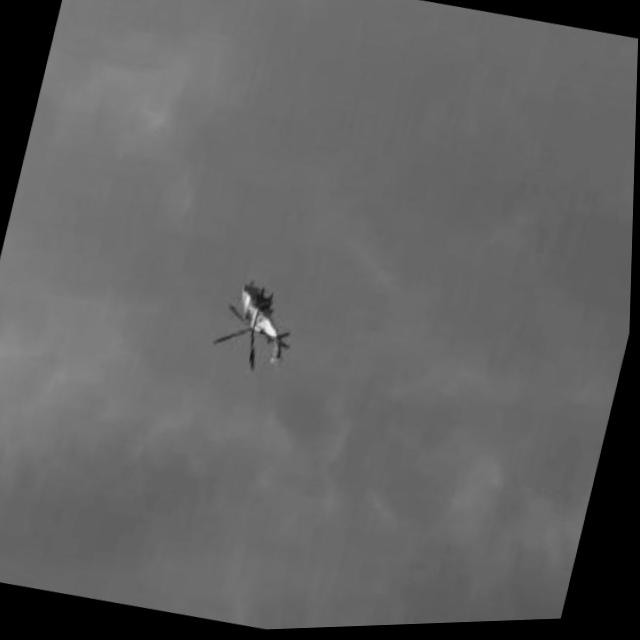helikopter: (209, 278, 301, 378)
